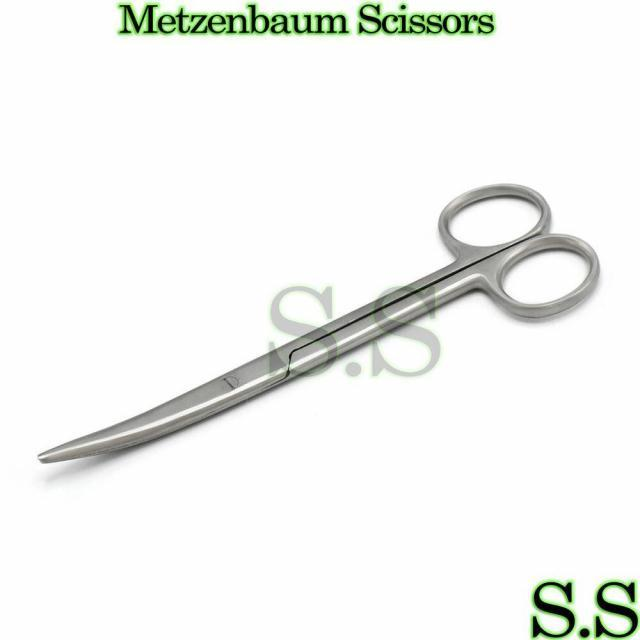Mayo_metz: (34, 178, 602, 472)
